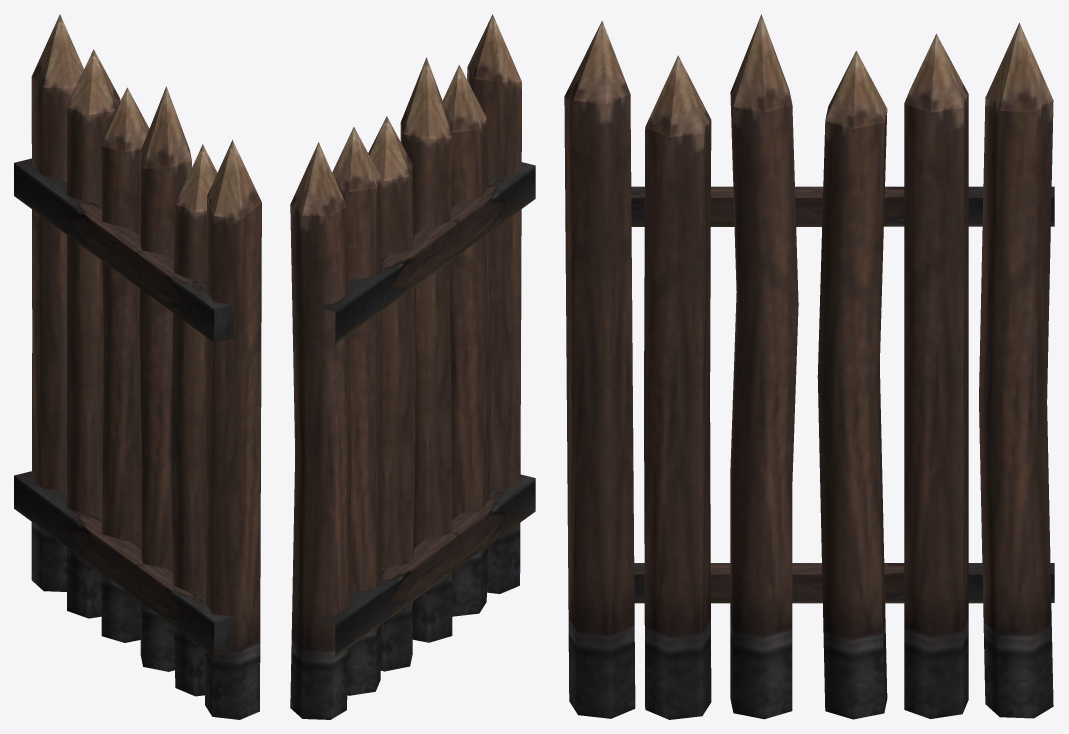
File: Barrack_Buidling_door_01.FBX
The picture shows the model from 3 angles, left to right: view 1: azimuth 30°, elevation 25°; view 2: azimuth 150°, elevation 25°; view 3: azimuth 270°, elevation 25°; orthographic projection. The views are drawn at different scales.
Parts seen in each view (by area): view 1: Barrack_Buidling_door; view 2: Barrack_Buidling_door; view 3: Barrack_Buidling_door.
Part boxes in pixels (x1,y1,x2,y2): Barrack_Buidling_door: [14, 14, 261, 719]; Barrack_Buidling_door: [290, 14, 535, 719]; Barrack_Buidling_door: [564, 14, 1054, 719].
Size of the model in its own units: 80.82 by 788 by 507.
